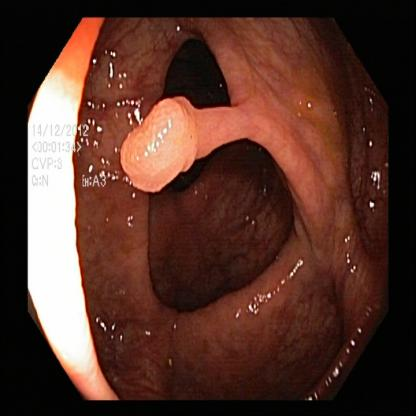Labels: (27, 109, 113, 197)
Polyps: (120, 104, 207, 197)
